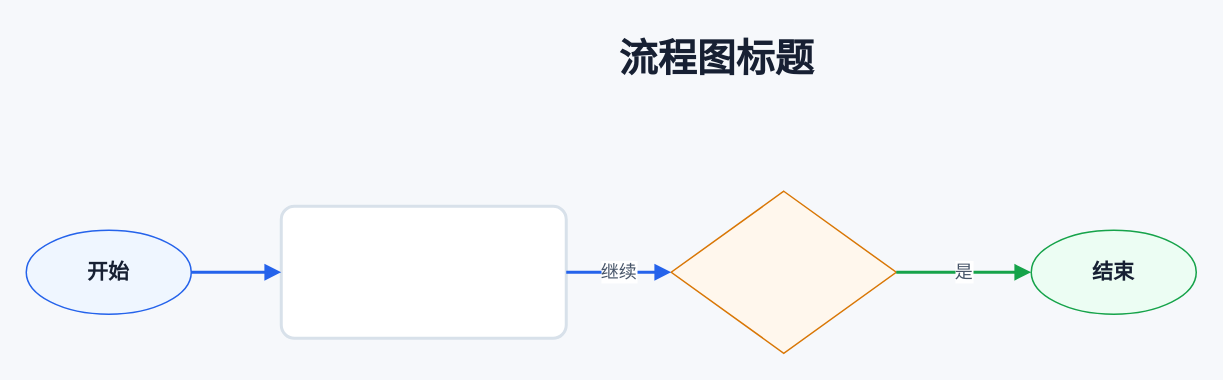
The diagram is 1223 pixels wide and 380 high, and some of its shapes have lost their labels. Each missing label, with the centre of its shape:
处理步骤: (423,271)
条件满足？: (783,271)
